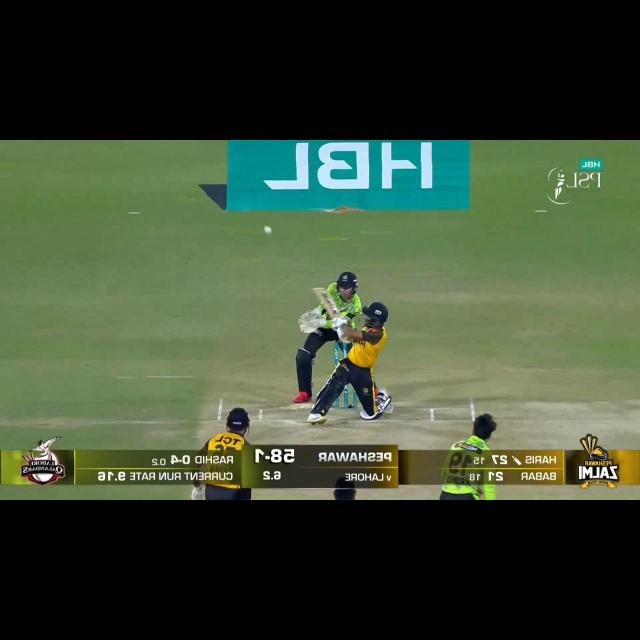bat: (311, 288, 338, 321)
toe: (310, 288, 330, 298)
